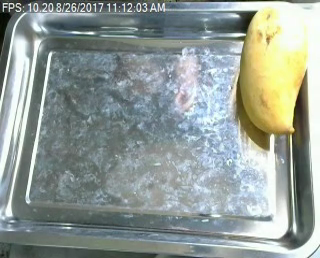Mango: (236, 7, 314, 137)
